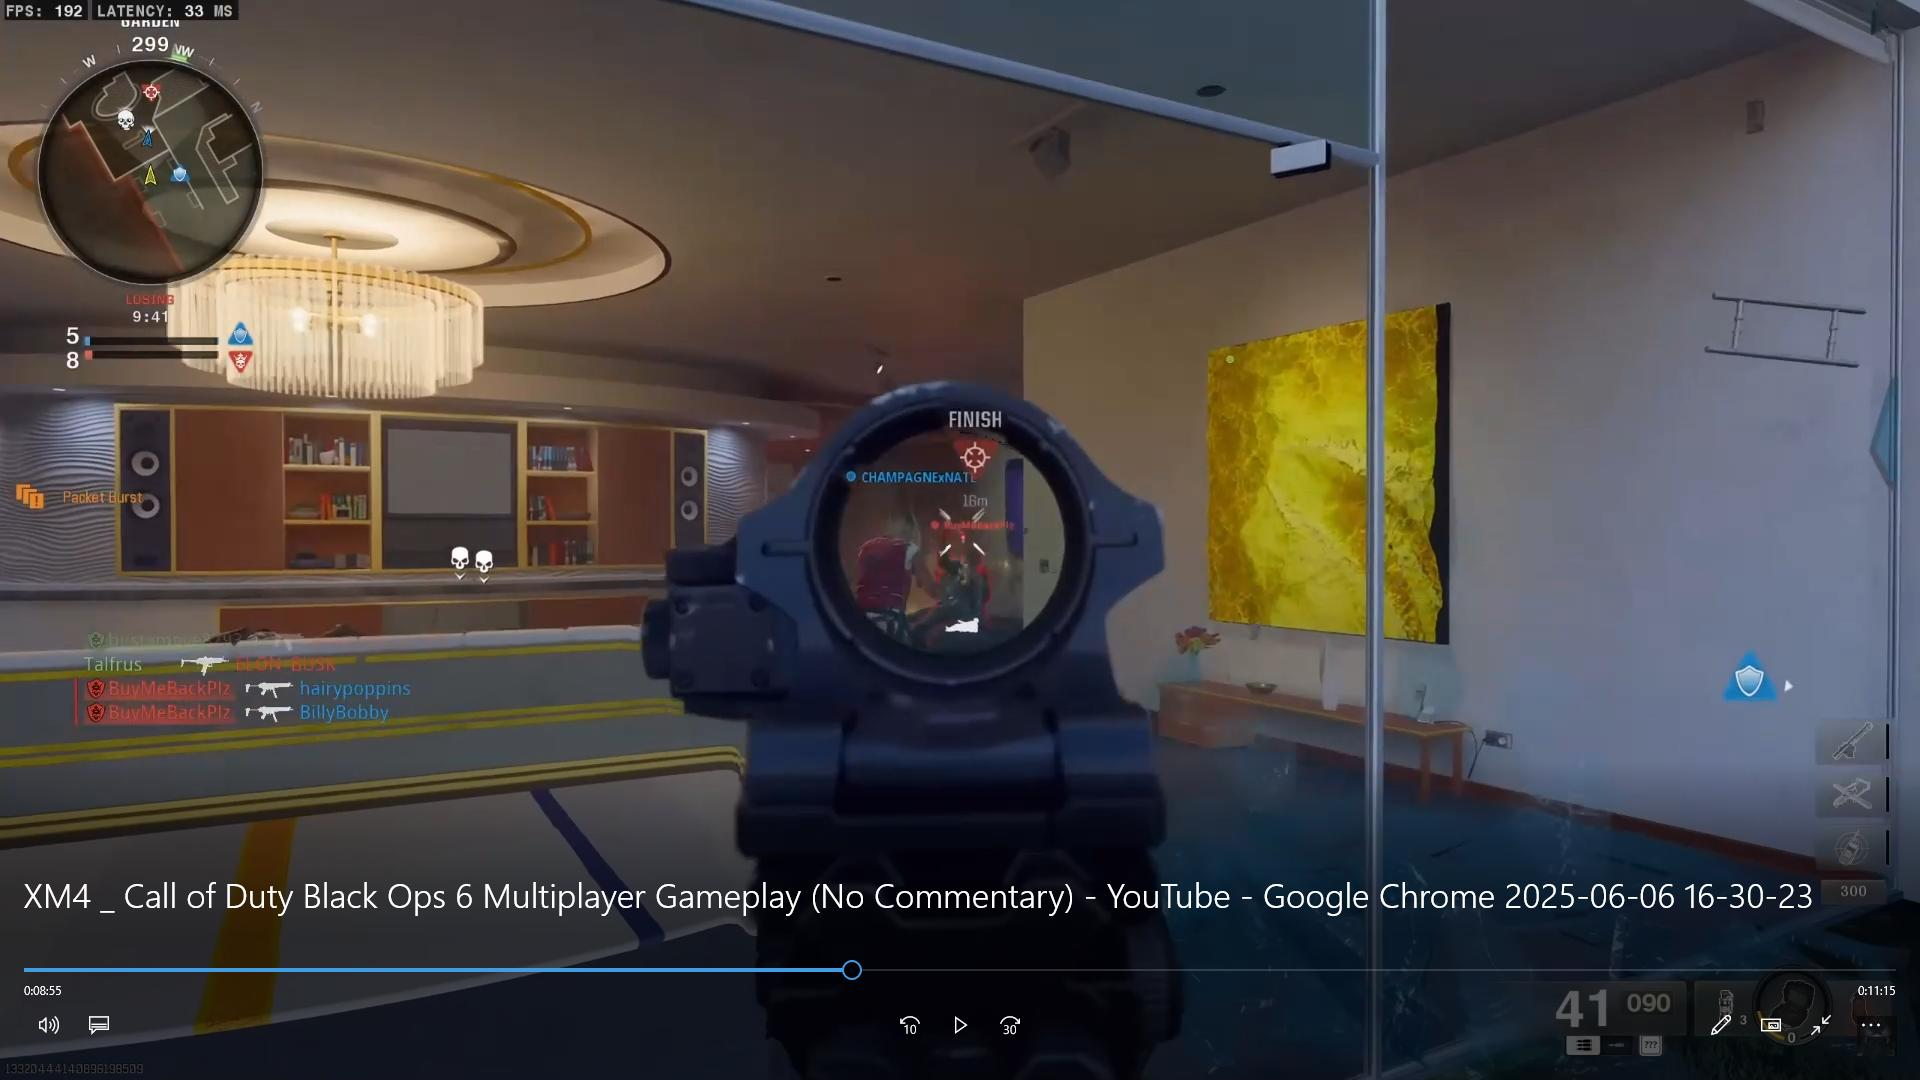Enemy: (860, 504, 931, 630), (936, 542, 993, 628)
